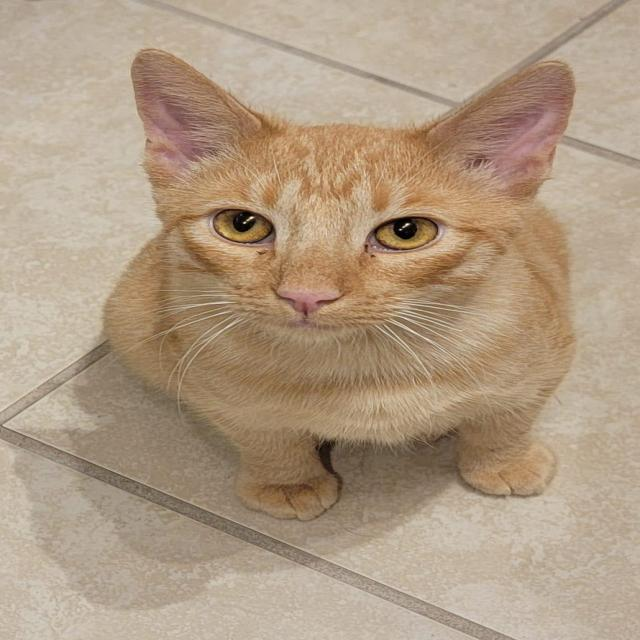manx_cat: (103, 42, 586, 354)
